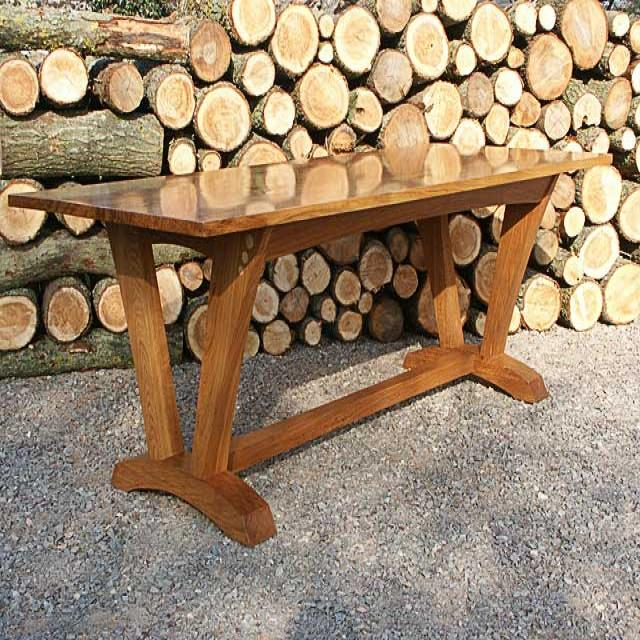table: (8, 141, 612, 547)
